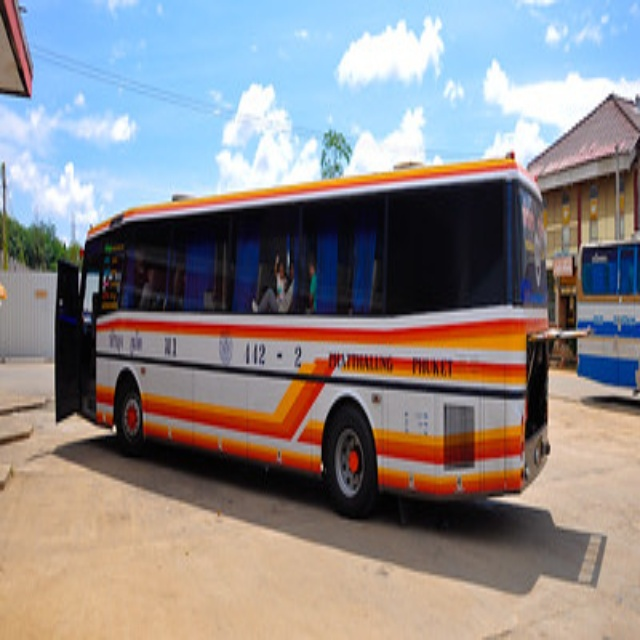Bus: (56, 156, 552, 520)
